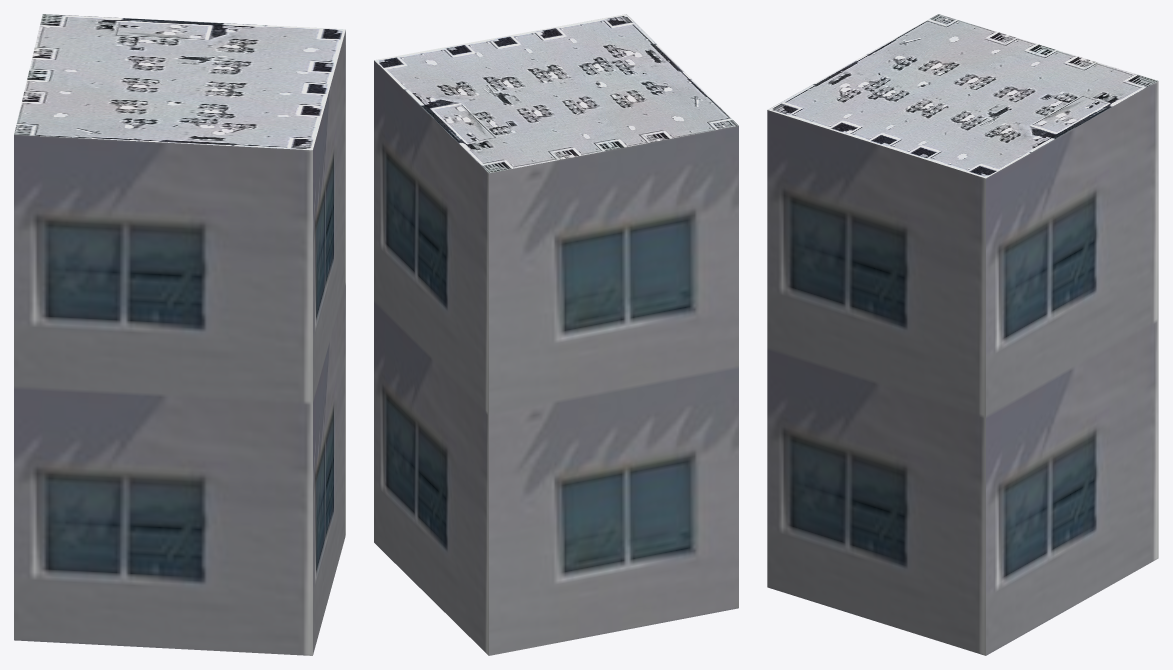
The model's file is ResTex__1970.fbx.
The picture shows the model from 3 angles, left to right: view 1: azimuth 30°, elevation 25°; view 2: azimuth 150°, elevation 25°; view 3: azimuth 270°, elevation 25°; orthographic projection. The views are drawn at different scales.
Visible parts, largest first — view 1: CityEngineMaterial_10_m, CityEngineMaterial_8_m; view 2: CityEngineMaterial_10_m, CityEngineMaterial_8_m; view 3: CityEngineMaterial_10_m, CityEngineMaterial_8_m.
Part boxes in pixels (box(x1,y1,x2,y2)): CityEngineMaterial_10_m: box(14, 30, 345, 655); CityEngineMaterial_8_m: box(14, 14, 345, 150); CityEngineMaterial_10_m: box(374, 60, 738, 655); CityEngineMaterial_8_m: box(374, 14, 738, 173); CityEngineMaterial_10_m: box(767, 81, 1158, 655); CityEngineMaterial_8_m: box(767, 14, 1157, 178).
Bounding box in the file's own units: 4.43 × 6 × 4.46.
2 materials, 2 textured.
